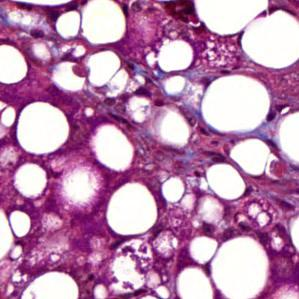steatosis: (202, 73, 273, 134), (103, 183, 158, 237), (16, 103, 70, 156), (203, 161, 250, 206)
